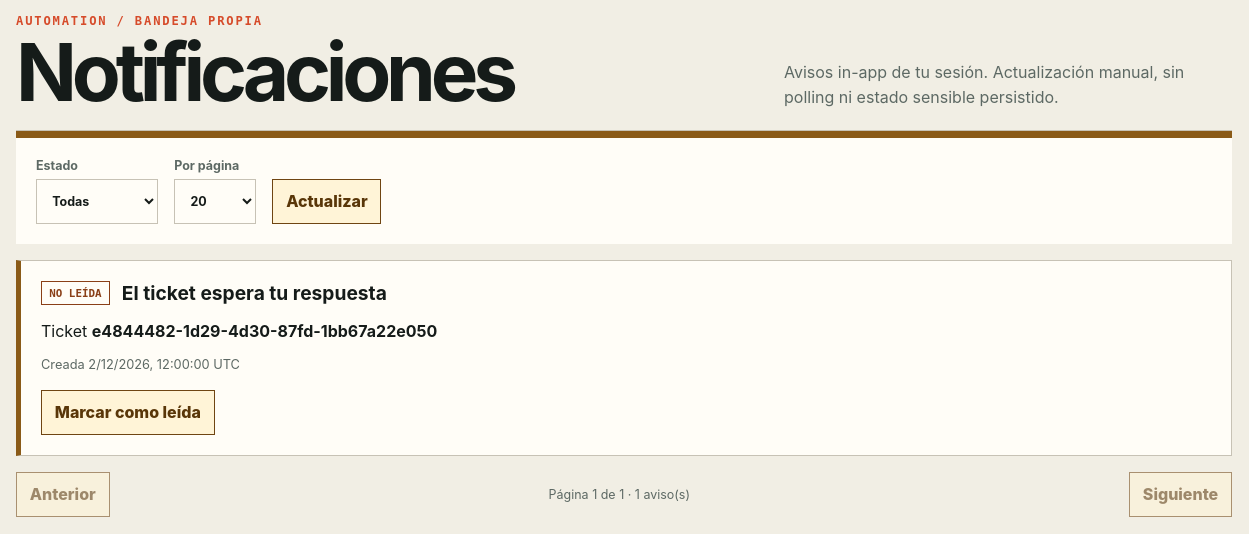
NotificationWorkspace › marks an unread notification with CSRF and refetches the active page
Click the button "Marcar como leída": [128, 412] box [41,390,215,435]
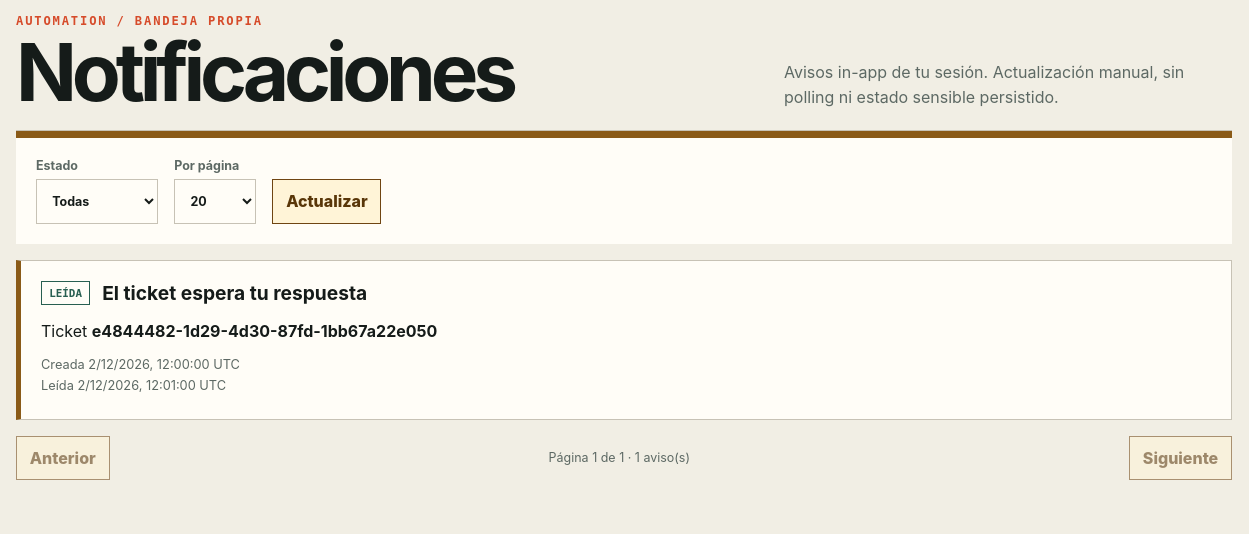
Check: the text "Leída" is shown, box [41,281,90,305]
Check: the button "Marcar como leída" is gone
